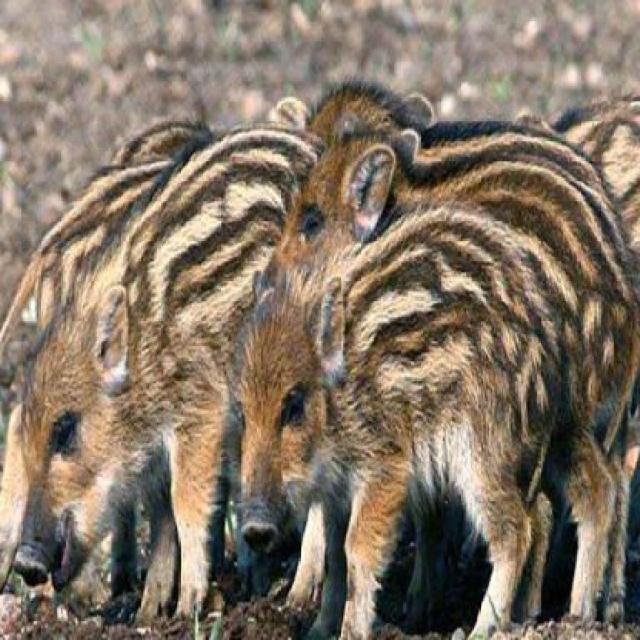wildboar: (260, 66, 640, 640), (246, 101, 640, 640), (11, 111, 343, 640), (231, 181, 591, 640), (0, 121, 231, 638)
